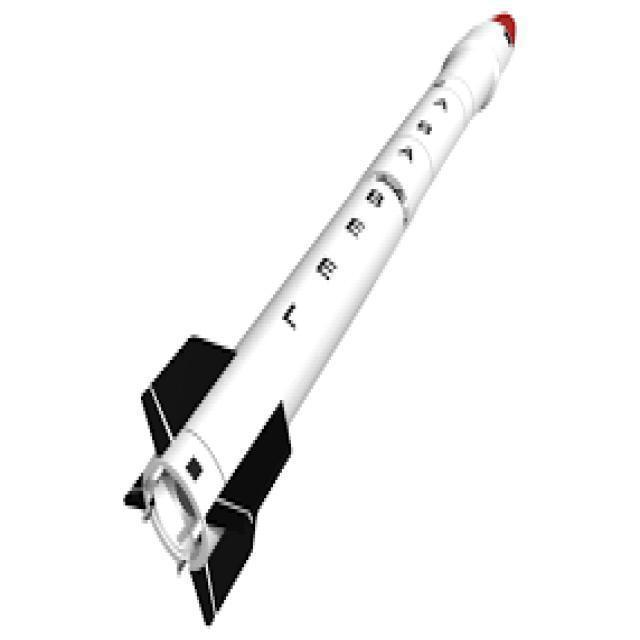Missile: (113, 9, 557, 591)
